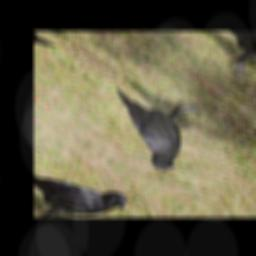Crow: (78, 64, 228, 175)
